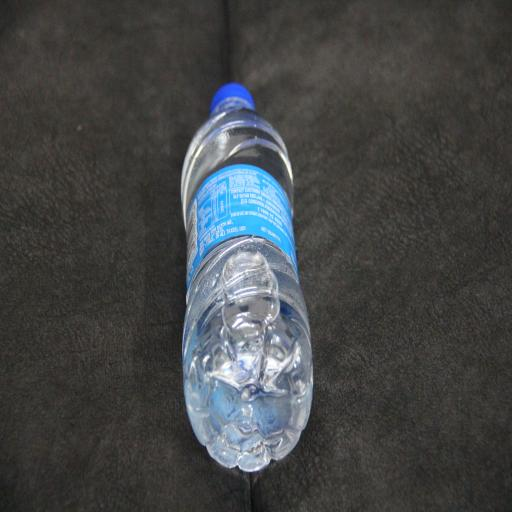Aquafina: (166, 67, 323, 485)
